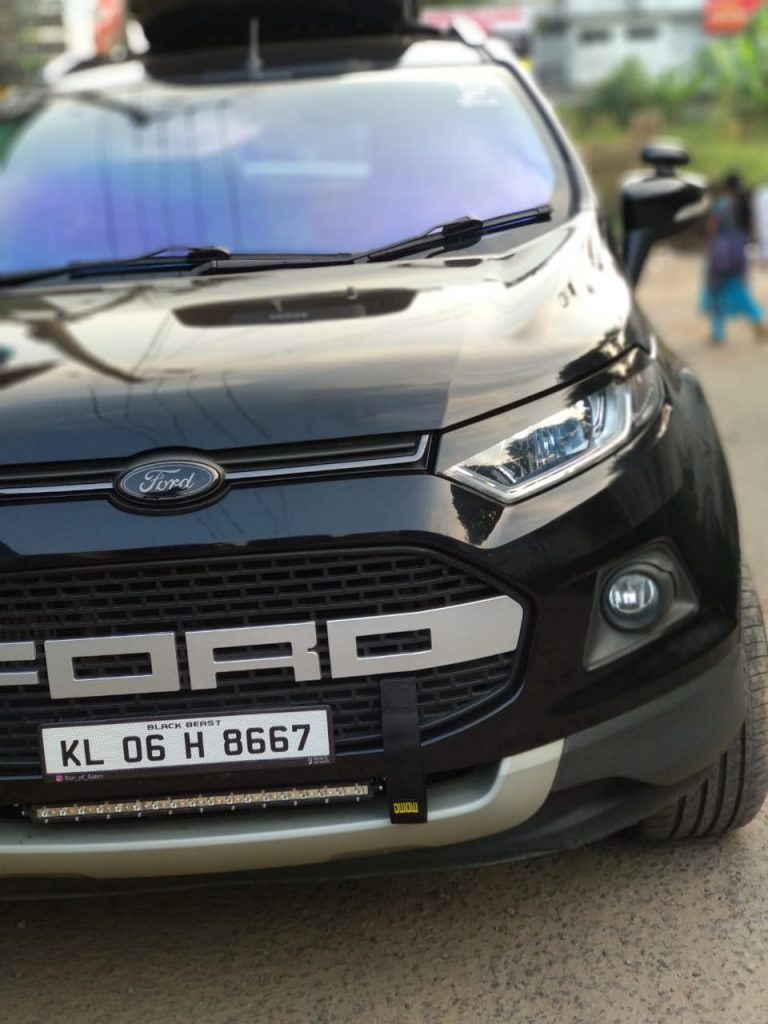number_plate: (35, 704, 351, 782)
